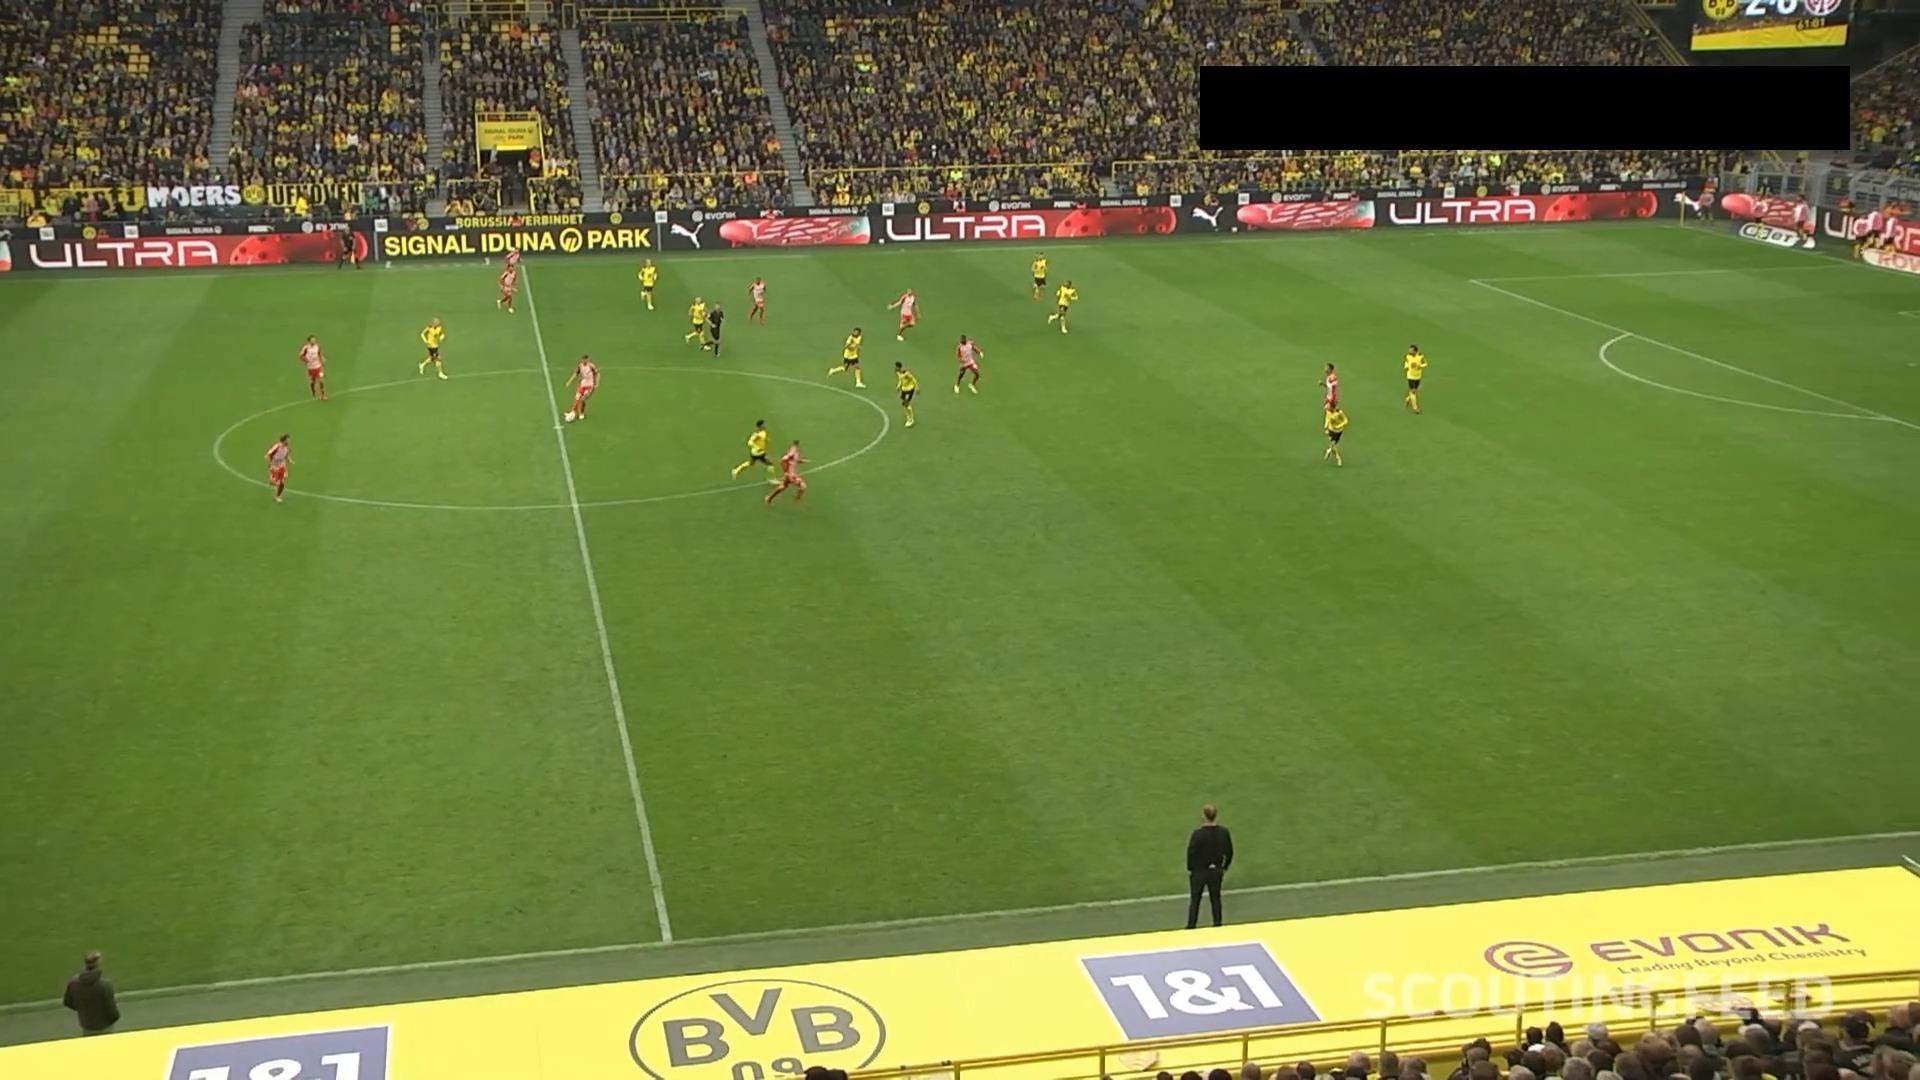ball: (564, 410, 576, 422)
